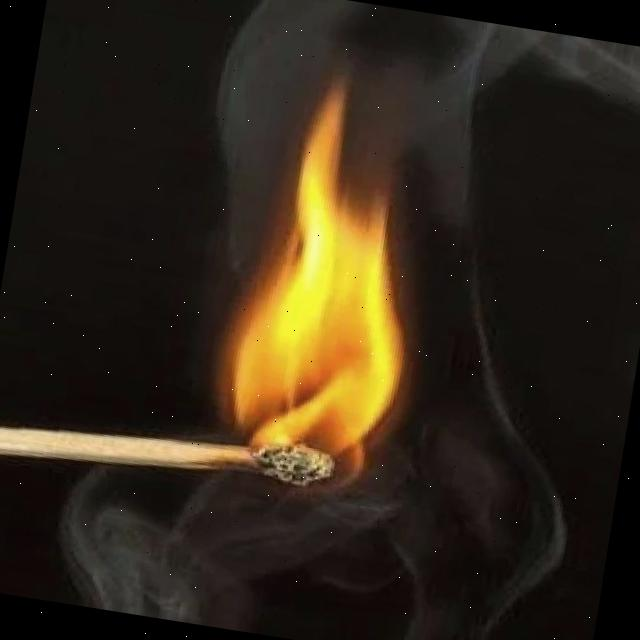fire: (180, 64, 452, 499)
